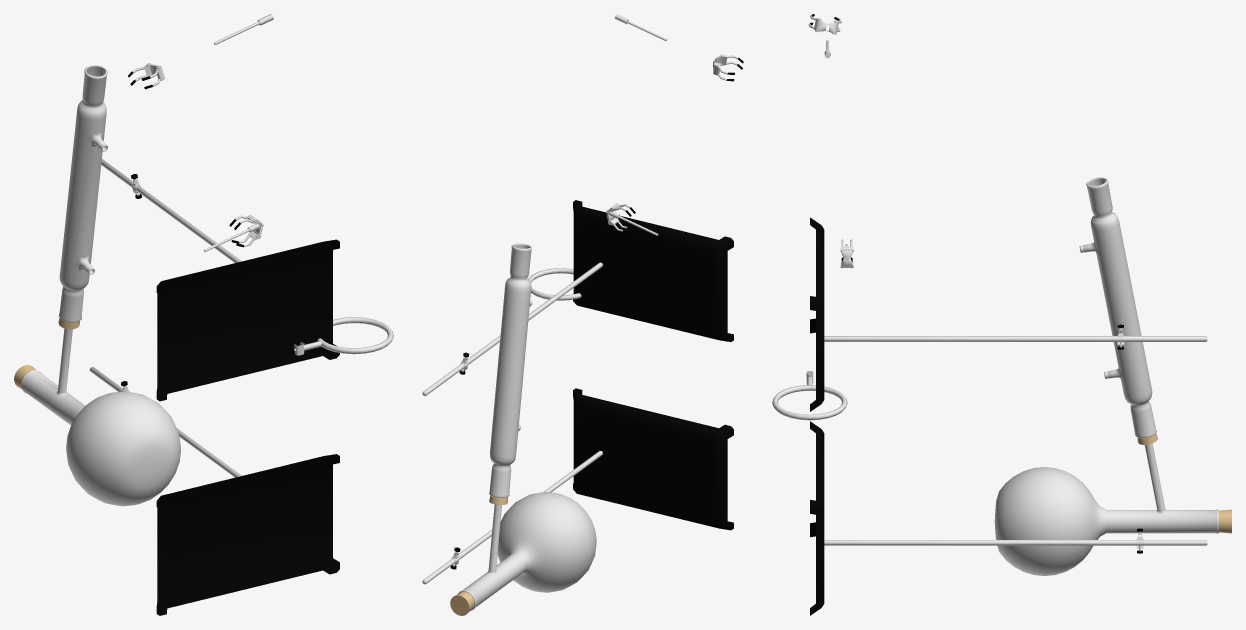
The model's file is Mounted condenser.dae.
The picture shows the model from 3 angles, left to right: view 1: azimuth 30°, elevation 25°; view 2: azimuth 150°, elevation 25°; view 3: azimuth 270°, elevation 25°; orthographic projection. The views are drawn at different scales.
Visible parts, largest first — view 1: Stand, Stand.001, Spherical flask, Condenser tube, Stand ring 7.3; view 2: Stand, Stand.001, Spherical flask, Condenser tube, Stand ring 7.3, Spherical flask.001; view 3: Spherical flask, Condenser tube, Stand.001, Stand, Stand ring 7.3.
Boxes of the visible parts, <box> form: Stand: <box>89,367,339,615</box>; Stand.001: <box>101,159,339,401</box>; Spherical flask: <box>21,328,180,506</box>; Condenser tube: <box>59,65,107,323</box>; Stand ring 7.3: <box>289,317,393,355</box>; Stand: <box>422,388,733,584</box>; Stand.001: <box>422,200,733,396</box>; Spherical flask: <box>458,492,596,610</box>; Condenser tube: <box>489,243,532,498</box>; Stand ring 7.3: <box>528,268,581,300</box>; Spherical flask.001: <box>450,591,474,615</box>; Spherical flask: <box>994,443,1218,575</box>; Condenser tube: <box>1079,177,1156,438</box>; Stand.001: <box>810,217,1207,411</box>; Stand: <box>810,421,1207,615</box>; Stand ring 7.3: <box>772,371,847,420</box>.
Bounding box in the file's own units: 0.2827 × 0.48 × 0.6188.
